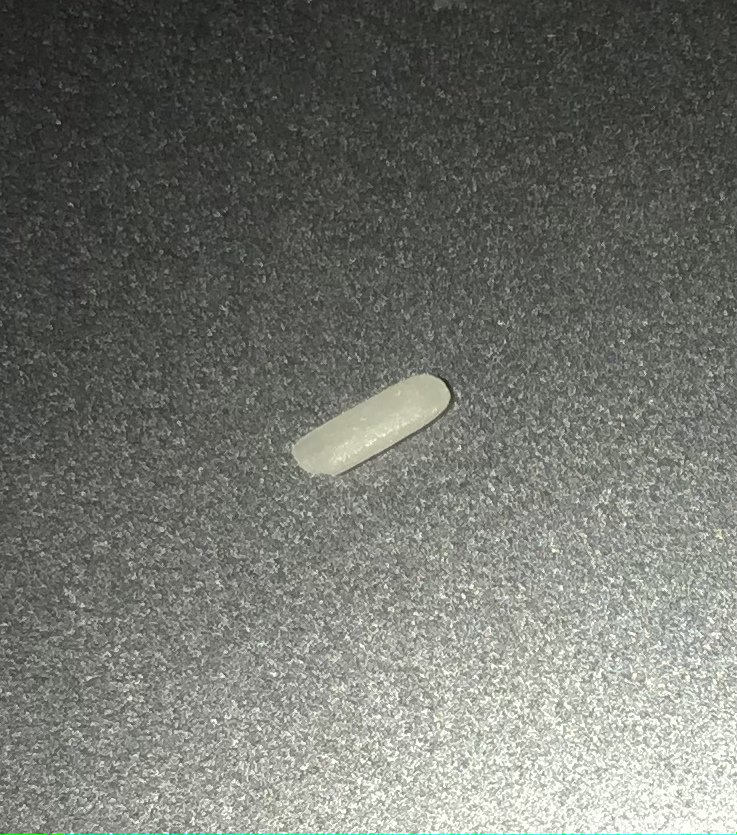Gao Tam Thom: (280, 362, 469, 494)
